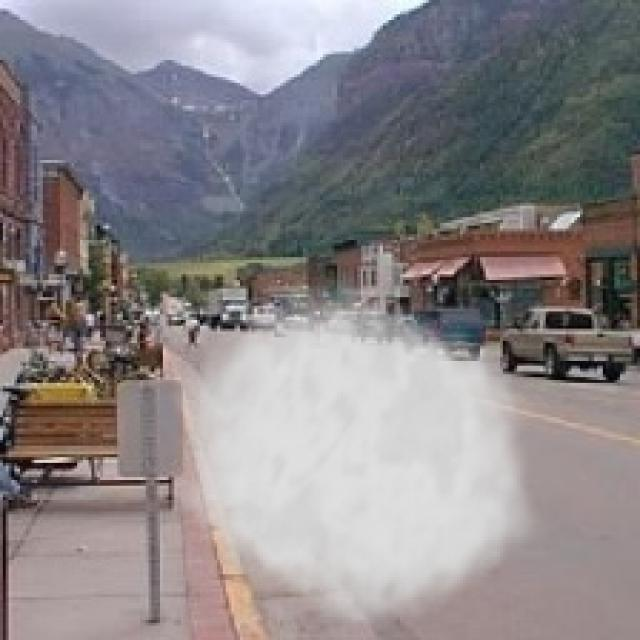smoke: (168, 269, 548, 637)
